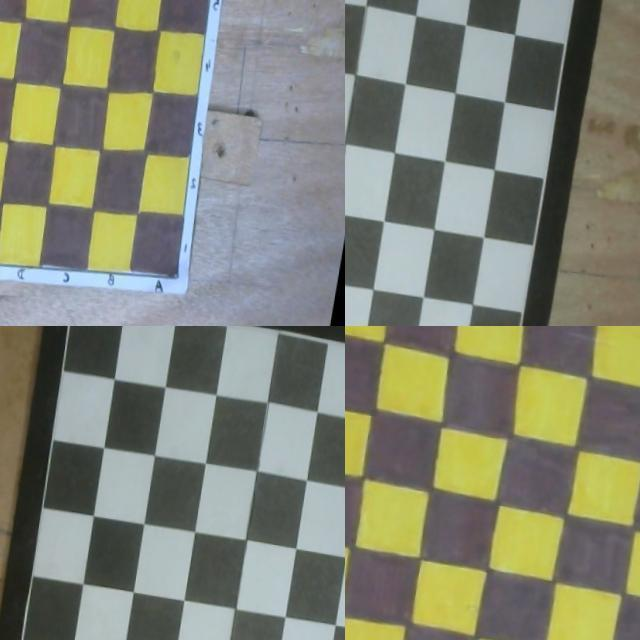chess-table-corners: (178, 264, 186, 276), (231, 0, 239, 5), (0, 241, 3, 252), (68, 326, 76, 330), (574, 0, 580, 4), (0, 0, 3, 5), (345, 0, 348, 5), (345, 326, 348, 330)
